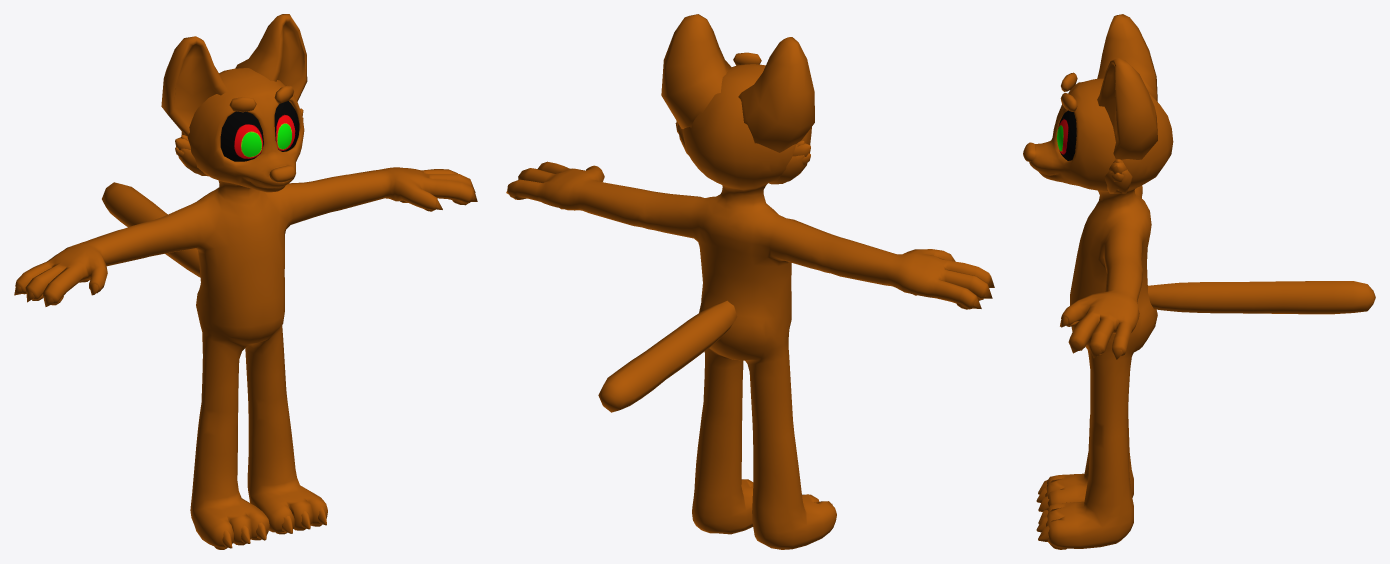
File: TexturePaint.fbx
The picture shows the model from 3 angles, left to right: view 1: azimuth 30°, elevation 25°; view 2: azimuth 150°, elevation 25°; view 3: azimuth 270°, elevation 25°; orthographic projection. The views are drawn at different scales.
Parts seen in each view (by area): view 1: Body, Claws; view 2: Body, SingleTuft; view 3: Body, Claws, SingleTuft.
Part boxes in pixels (x1=…): Body: x1=15, y1=14, x2=474, y2=547; Claws: x1=14, y1=184, x2=477, y2=548; Body: x1=507, y1=14, x2=990, y2=549; SingleTuft: x1=677, y1=124, x2=809, y2=184; Body: x1=1023, y1=14, x2=1375, y2=548; Claws: x1=1036, y1=316, x2=1122, y2=541; SingleTuft: x1=1104, y1=169, x2=1132, y2=193.
Bounding box in the file's own units: 1.89 × 1.97 × 1.29.
